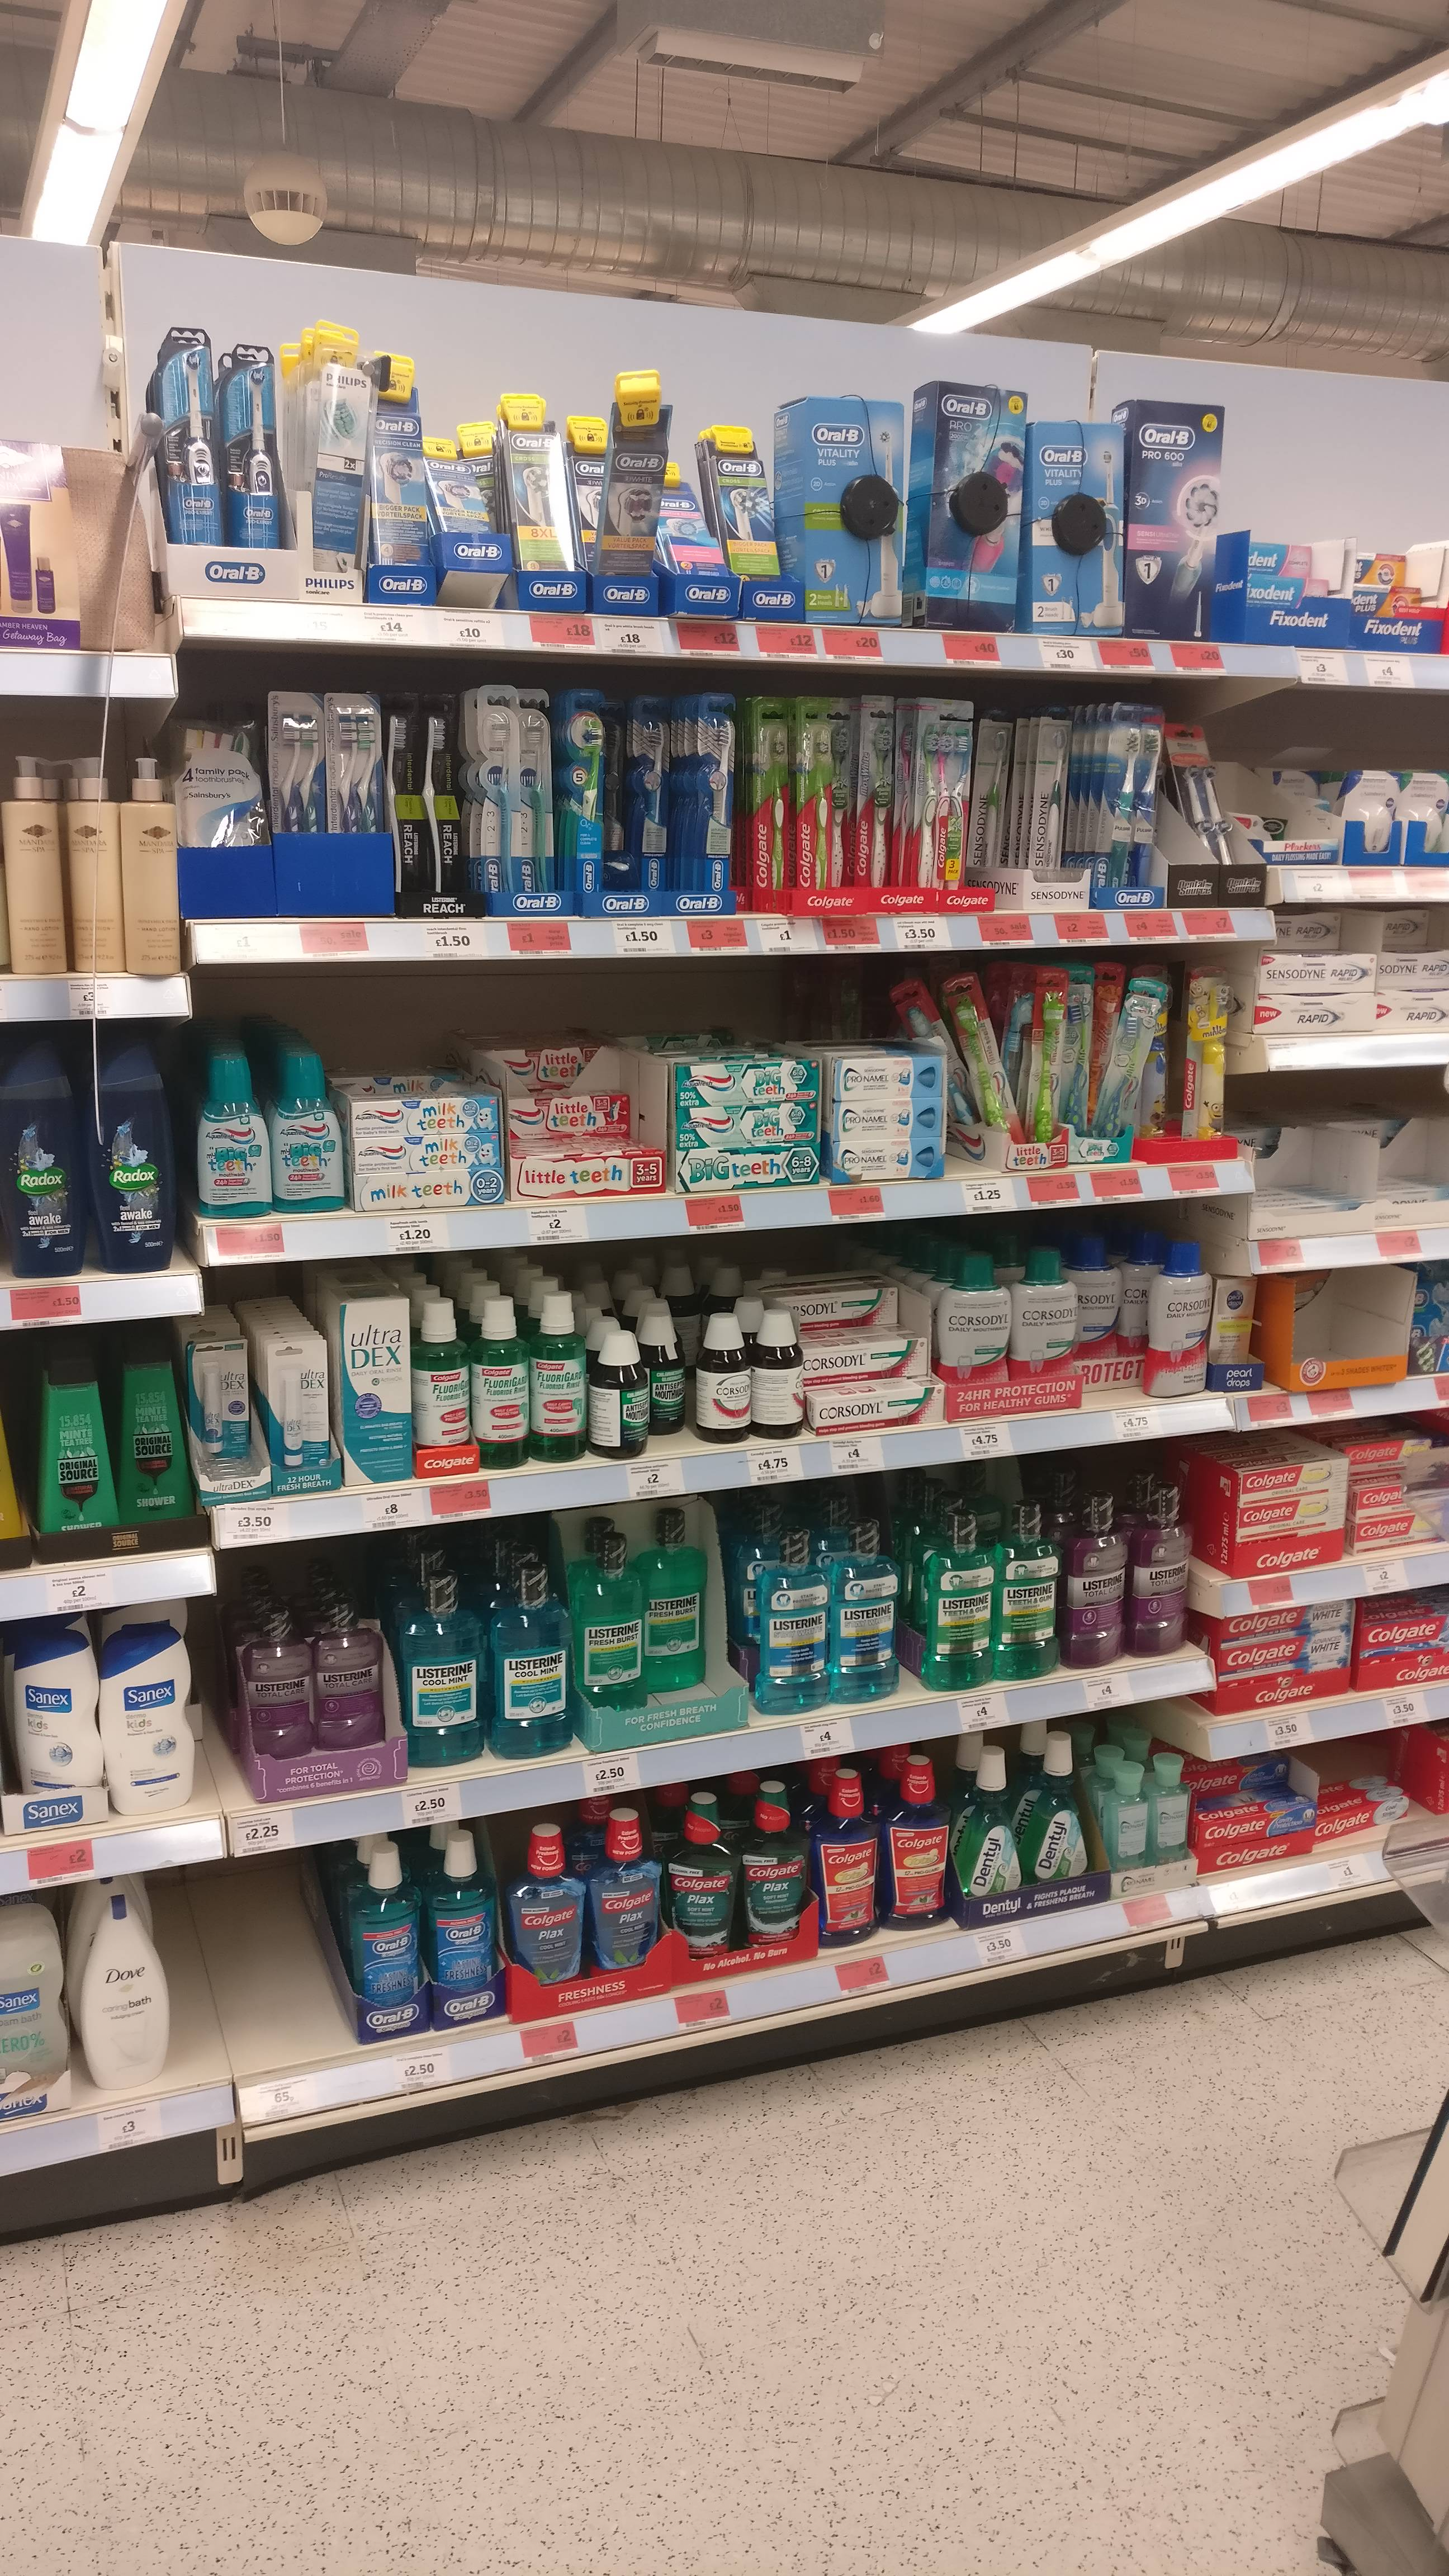Misplacement: (485, 1035, 669, 1210), (782, 1288, 950, 1435)
Out-of-stock: (182, 1870, 350, 2116)
